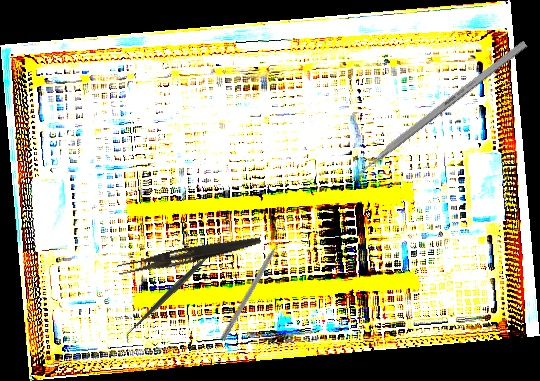Dressing Forceps: (116, 229, 262, 281)
Pusher: (337, 39, 528, 192), (219, 231, 289, 342)
Spatula Surgical: (117, 236, 229, 345)
